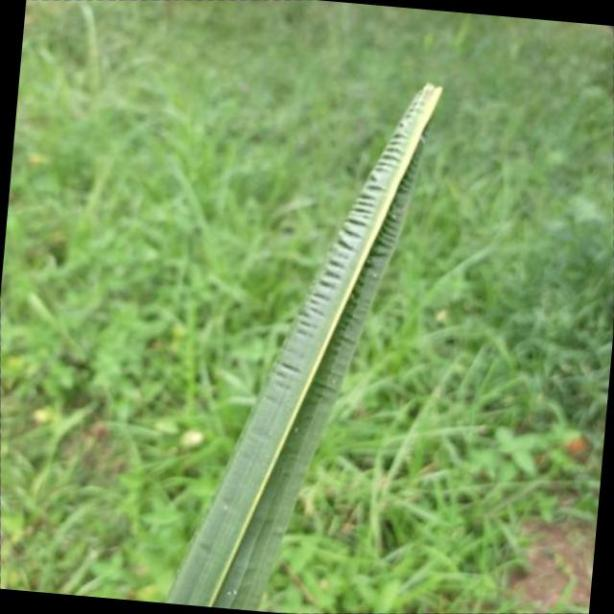Boron: (169, 77, 459, 614)
